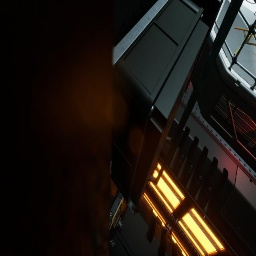EmergencyPhone ,: (109, 192, 124, 244)
